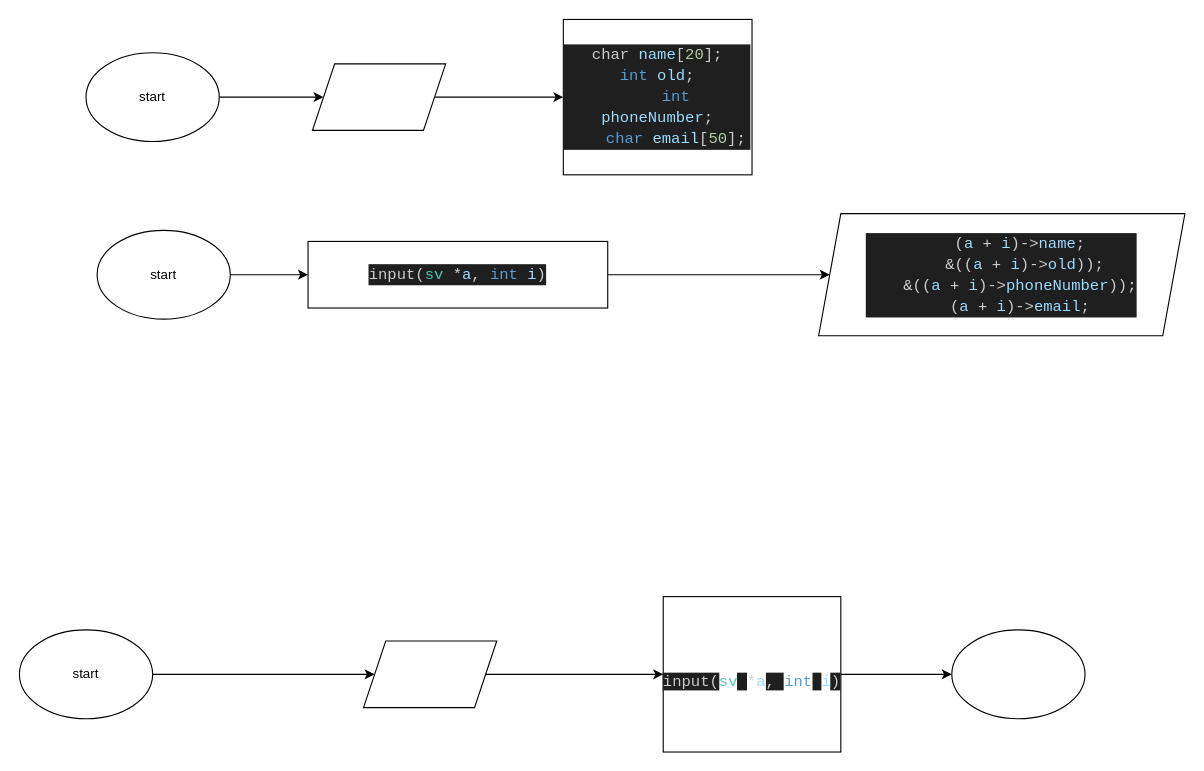
This 1204x771 diagram has some shape labels left out. Here are the shapes that lost their labels. From the top down, the centre of each, then its label:
the point at 378,96: struct SinhVien
the point at 429,674: struct SinhVien sv
the point at 1018,674: end
